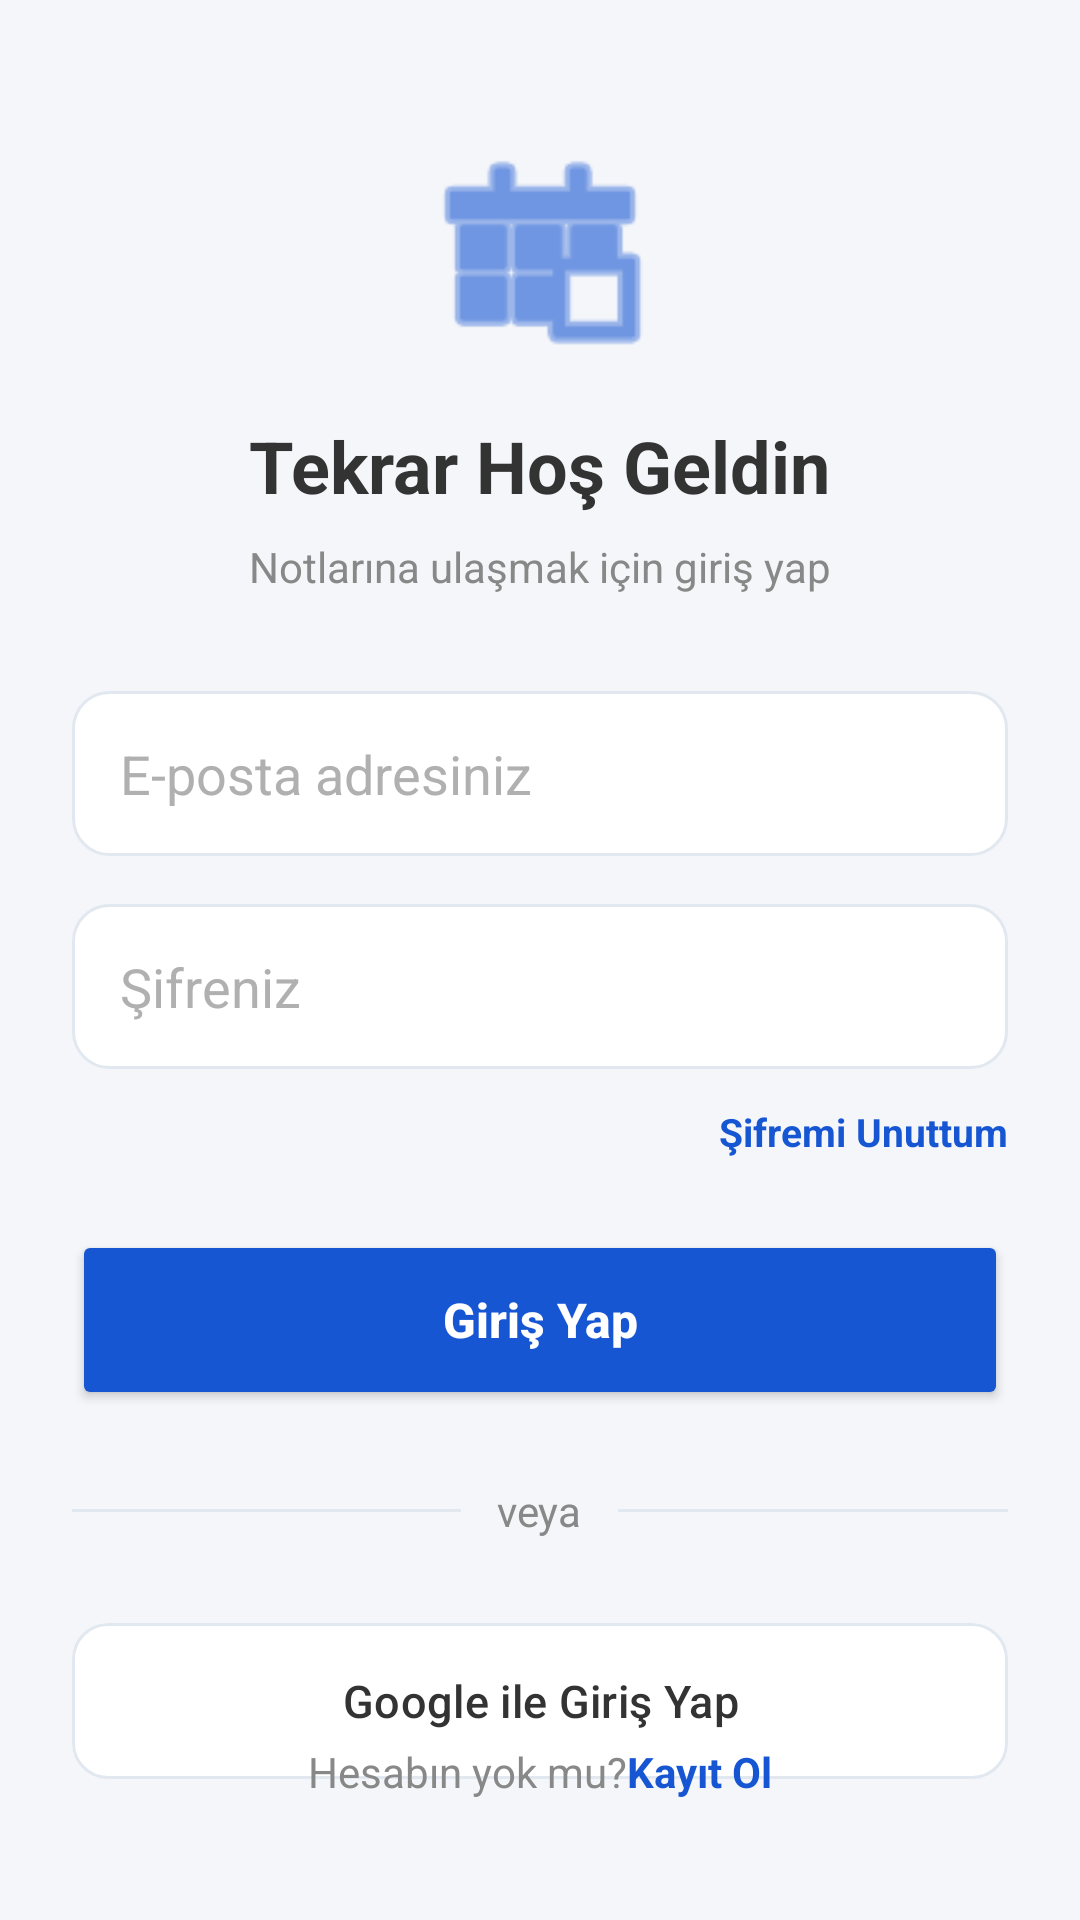

Where icons sit on this 1080w x 1920h app screen, as rect(x1, y1, x2, y2):
today: rect(444, 161, 641, 344)
